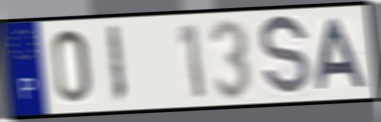0: (50, 27, 95, 107)
1: (177, 21, 208, 101)
3: (208, 14, 256, 104)
A: (315, 16, 370, 92)
I: (105, 23, 129, 106)
S: (258, 12, 313, 101)
